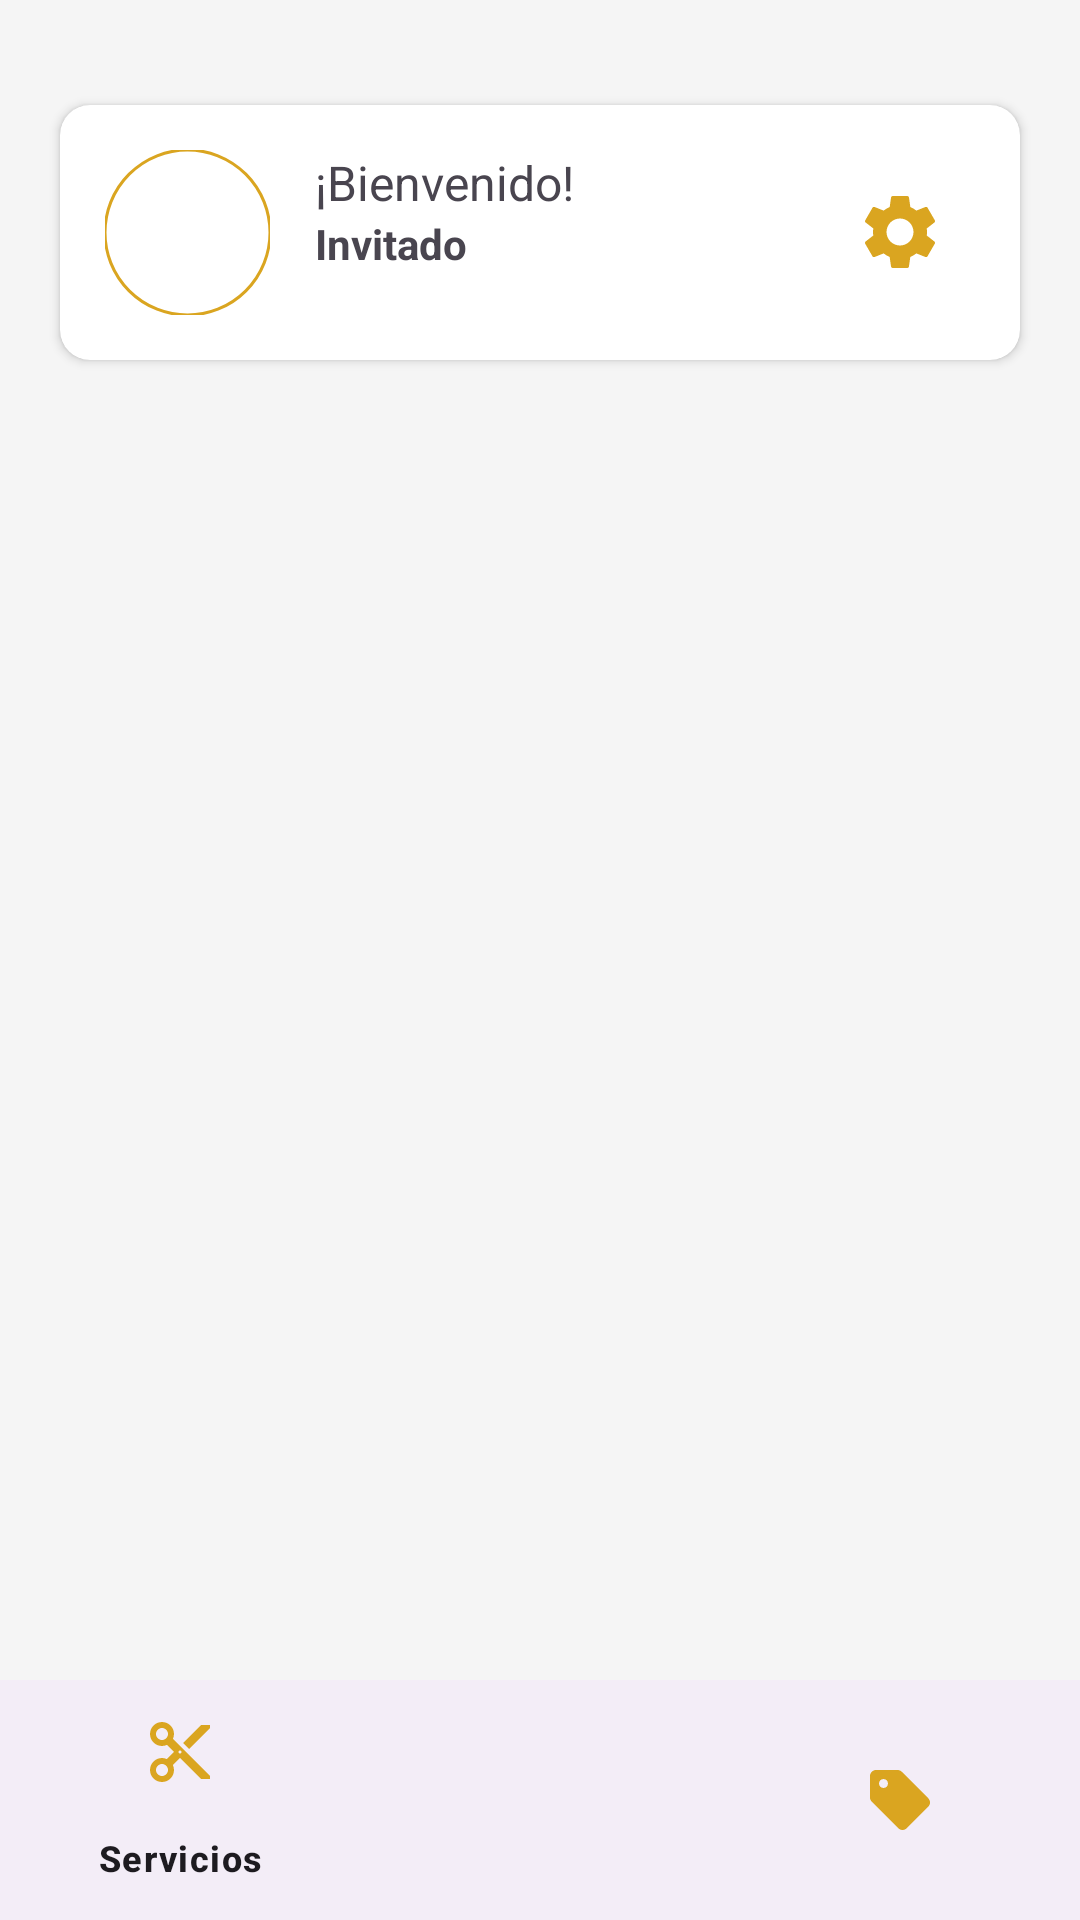

Screen size 1080 x 1920. Icon name, then its center in pixels as [x,y]:
settings: [900,232]
